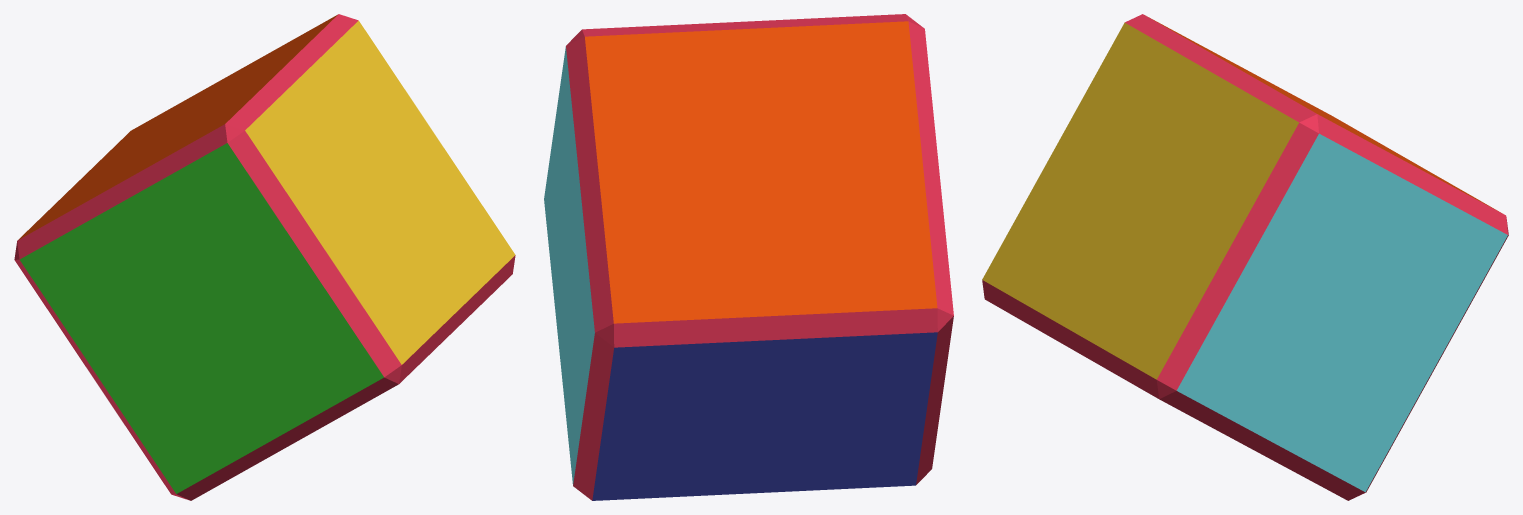
Rendered from SquareModel.glb.
The picture shows the model from 3 angles, left to right: view 1: azimuth 30°, elevation 25°; view 2: azimuth 150°, elevation 25°; view 3: azimuth 270°, elevation 25°; orthographic projection. The views are drawn at different scales.
Visible parts, largest first — view 1: Quadrado; view 2: Quadrado; view 3: Quadrado.
Part boxes in pixels (x1=…): Quadrado: x1=14, y1=14, x2=515, y2=500; Quadrado: x1=544, y1=14, x2=953, y2=500; Quadrado: x1=982, y1=14, x2=1508, y2=500.
Size of the model in its own units: 1.15 by 0.9918 by 1.19.
